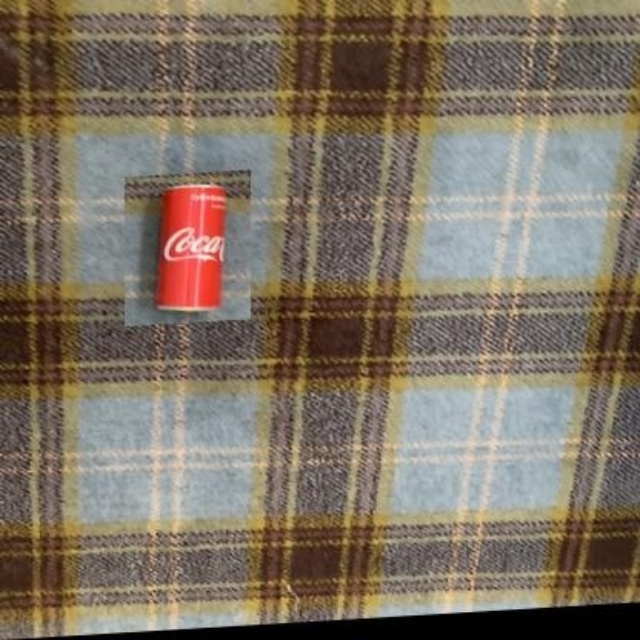trash: (155, 185, 225, 309)
